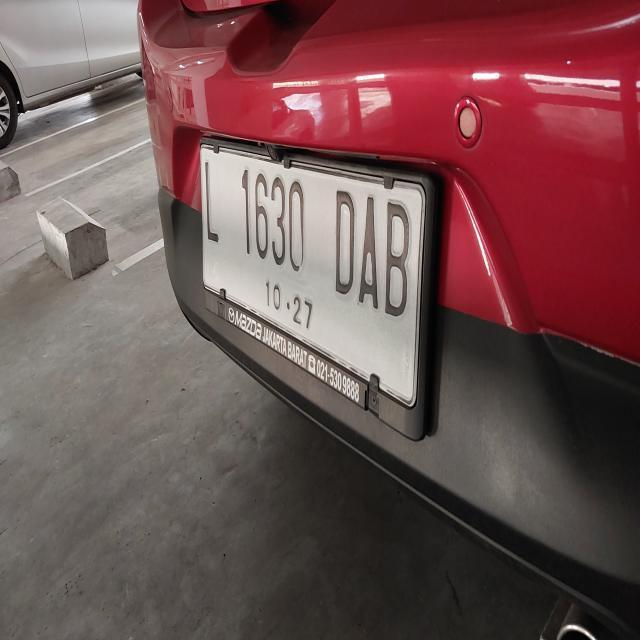0: (289, 175, 310, 272)
1: (236, 164, 252, 263)
3: (270, 171, 286, 277)
6: (251, 166, 272, 273)
A: (358, 182, 380, 312)
B: (382, 183, 414, 325)
D: (324, 180, 360, 298)
L: (196, 151, 232, 269)
